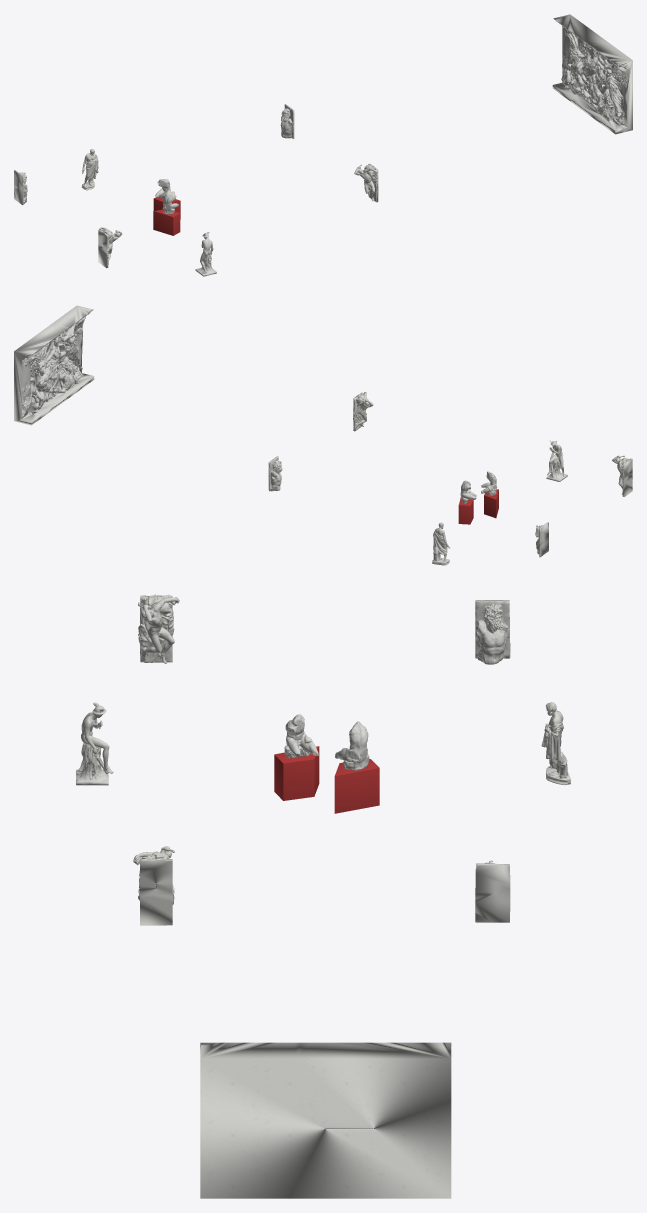
File: sculptures-v1.glb
3 views of the same model, one above another, from view 1: azimuth 30°, elevation 25°; view 2: azimuth 150°, elevation 25°; view 3: azimuth 270°, elevation 25° (orthographic). The views are drawn at different scales.
Parts seen in each view (by area): view 1: AI66_002_Sculpture_A, AI66_002_Sculpture_F001, AI66_002_Sculpture_C001, AI66_002_Sculpture_C002, AI66_002_Sculpture_D, AI66_002_Sculpture_E, AI66_002_Sculpture_B001, AI66_002_Sculpture_F002, AI66_002_Sculpture_B002; view 2: AI66_002_Sculpture_A, AI66_002_Sculpture_F002, AI66_002_Sculpture_F001, AI66_002_Sculpture_C001, AI66_002_Sculpture_E, AI66_002_Sculpture_D, AI66_002_Sculpture_C002, AI66_002_Sculpture_B001, AI66_002_Sculpture_B002; view 3: AI66_002_Sculpture_A, AI66_002_Sculpture_F002, AI66_002_Sculpture_F001, AI66_002_Sculpture_C002, AI66_002_Sculpture_C001, AI66_002_Sculpture_B002, AI66_002_Sculpture_B001, AI66_002_Sculpture_E, AI66_002_Sculpture_D.
Boxes of the visible parts, x1,y1,x2,y2 form: AI66_002_Sculpture_A: (552, 14, 632, 134); AI66_002_Sculpture_F001: (153, 191, 180, 235); AI66_002_Sculpture_C001: (98, 227, 122, 268); AI66_002_Sculpture_C002: (354, 163, 378, 202); AI66_002_Sculpture_D: (81, 149, 98, 190); AI66_002_Sculpture_E: (195, 232, 216, 276); AI66_002_Sculpture_B001: (280, 104, 294, 138); AI66_002_Sculpture_F002: (153, 179, 180, 219); AI66_002_Sculpture_B002: (14, 170, 27, 205); AI66_002_Sculpture_A: (14, 305, 94, 425); AI66_002_Sculpture_F002: (458, 480, 476, 524); AI66_002_Sculpture_F001: (481, 471, 498, 518); AI66_002_Sculpture_C001: (612, 455, 632, 496); AI66_002_Sculpture_E: (546, 440, 567, 481); AI66_002_Sculpture_D: (432, 522, 450, 565); AI66_002_Sculpture_C002: (353, 392, 373, 431); AI66_002_Sculpture_B001: (268, 456, 282, 491); AI66_002_Sculpture_B002: (535, 522, 548, 557); AI66_002_Sculpture_A: (200, 1042, 451, 1198); AI66_002_Sculpture_F002: (334, 721, 379, 813); AI66_002_Sculpture_F001: (274, 714, 319, 800); AI66_002_Sculpture_C002: (133, 846, 174, 925); AI66_002_Sculpture_C001: (138, 594, 179, 663); AI66_002_Sculpture_B002: (475, 600, 510, 664); AI66_002_Sculpture_B001: (475, 860, 510, 922); AI66_002_Sculpture_E: (76, 702, 113, 785); AI66_002_Sculpture_D: (541, 702, 570, 784).
Bounding box in the file's own units: 32.84 × 4.73 × 13.02.
Materials: 2 (2 with a texture image).
